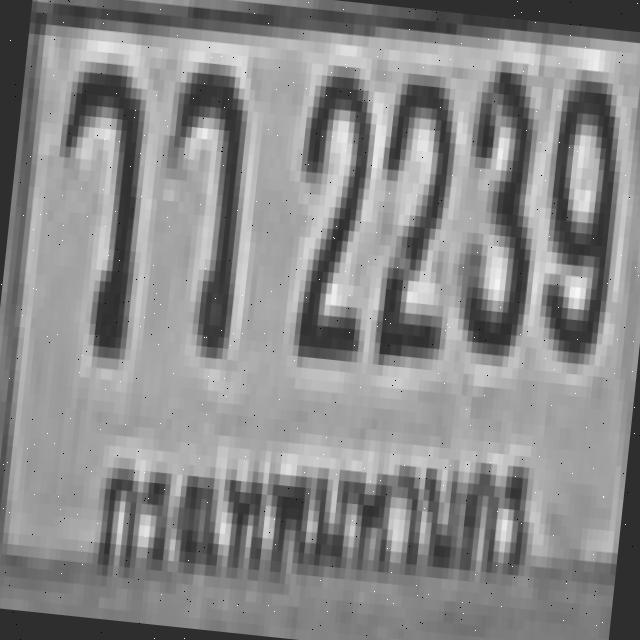2: (282, 52, 382, 350), (363, 60, 462, 348)
3: (450, 59, 544, 346)
46WorWaen: (142, 48, 253, 348), (40, 49, 150, 348)
9: (530, 68, 624, 354)
